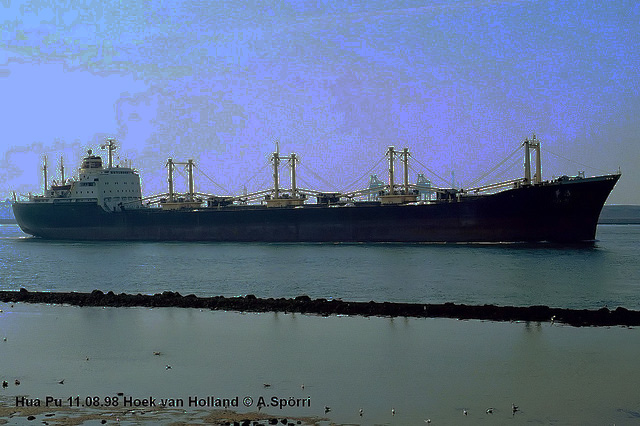bulk carrier: (12, 138, 620, 255)
